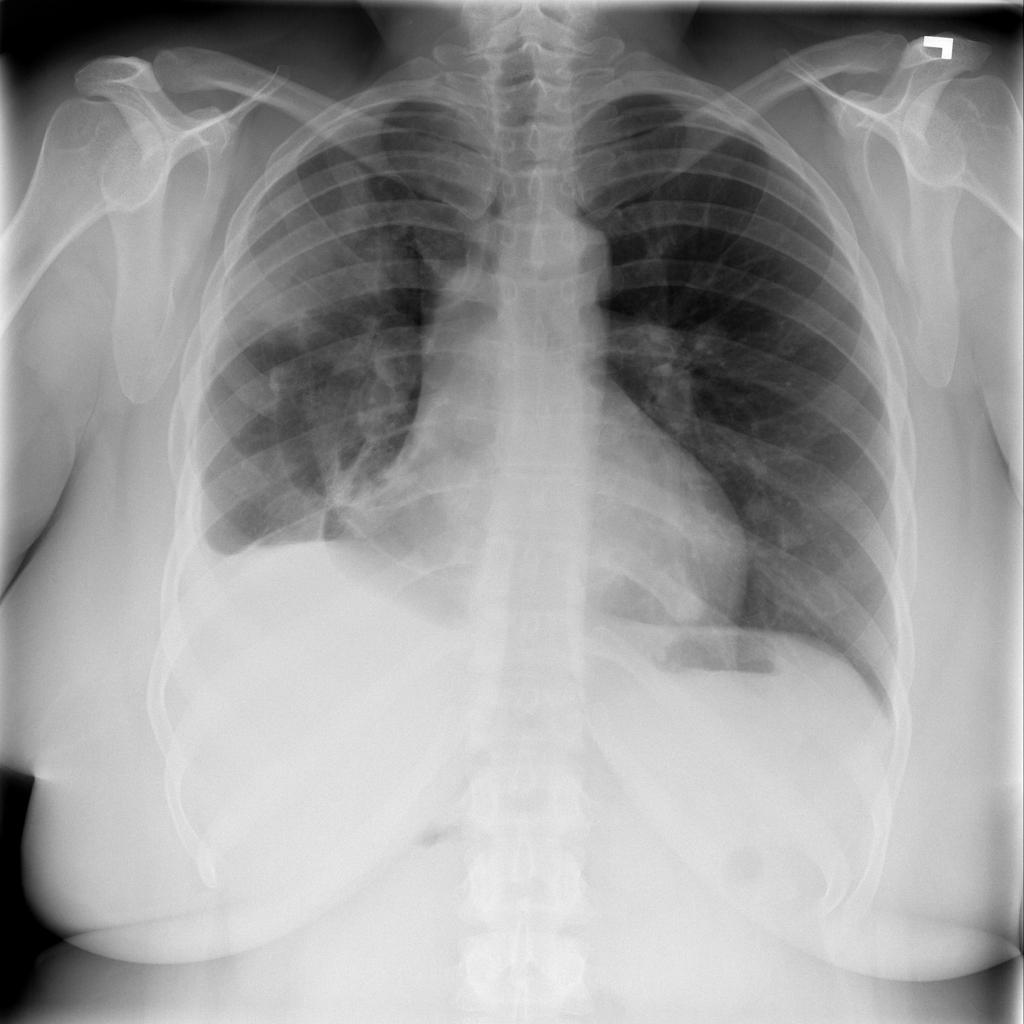nodule: (642, 553, 715, 632), (674, 301, 748, 371), (726, 477, 801, 543)
